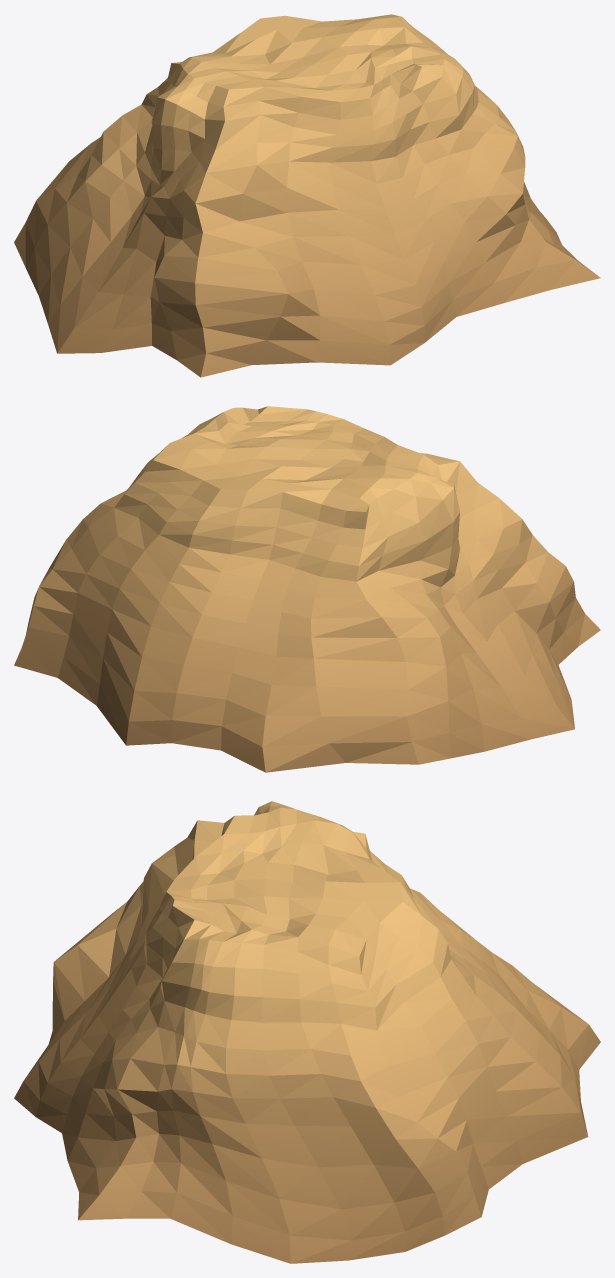
Rendered from hill.fbx.
3 views of the same model, one above another, from view 1: azimuth 30°, elevation 25°; view 2: azimuth 150°, elevation 25°; view 3: azimuth 270°, elevation 25° (orthographic). The views are drawn at different scales.
Visible parts, largest first — view 1: Cube.541; view 2: Cube.541; view 3: Cube.541.
Boxes of the visible parts, left/top/right/bottom form: Cube.541: left=14, top=14, right=600, bottom=377; Cube.541: left=14, top=406, right=600, bottom=772; Cube.541: left=14, top=801, right=600, bottom=1263.
Size of the model in its own units: 146 by 63.86 by 130.
1 material, 1 textured.
